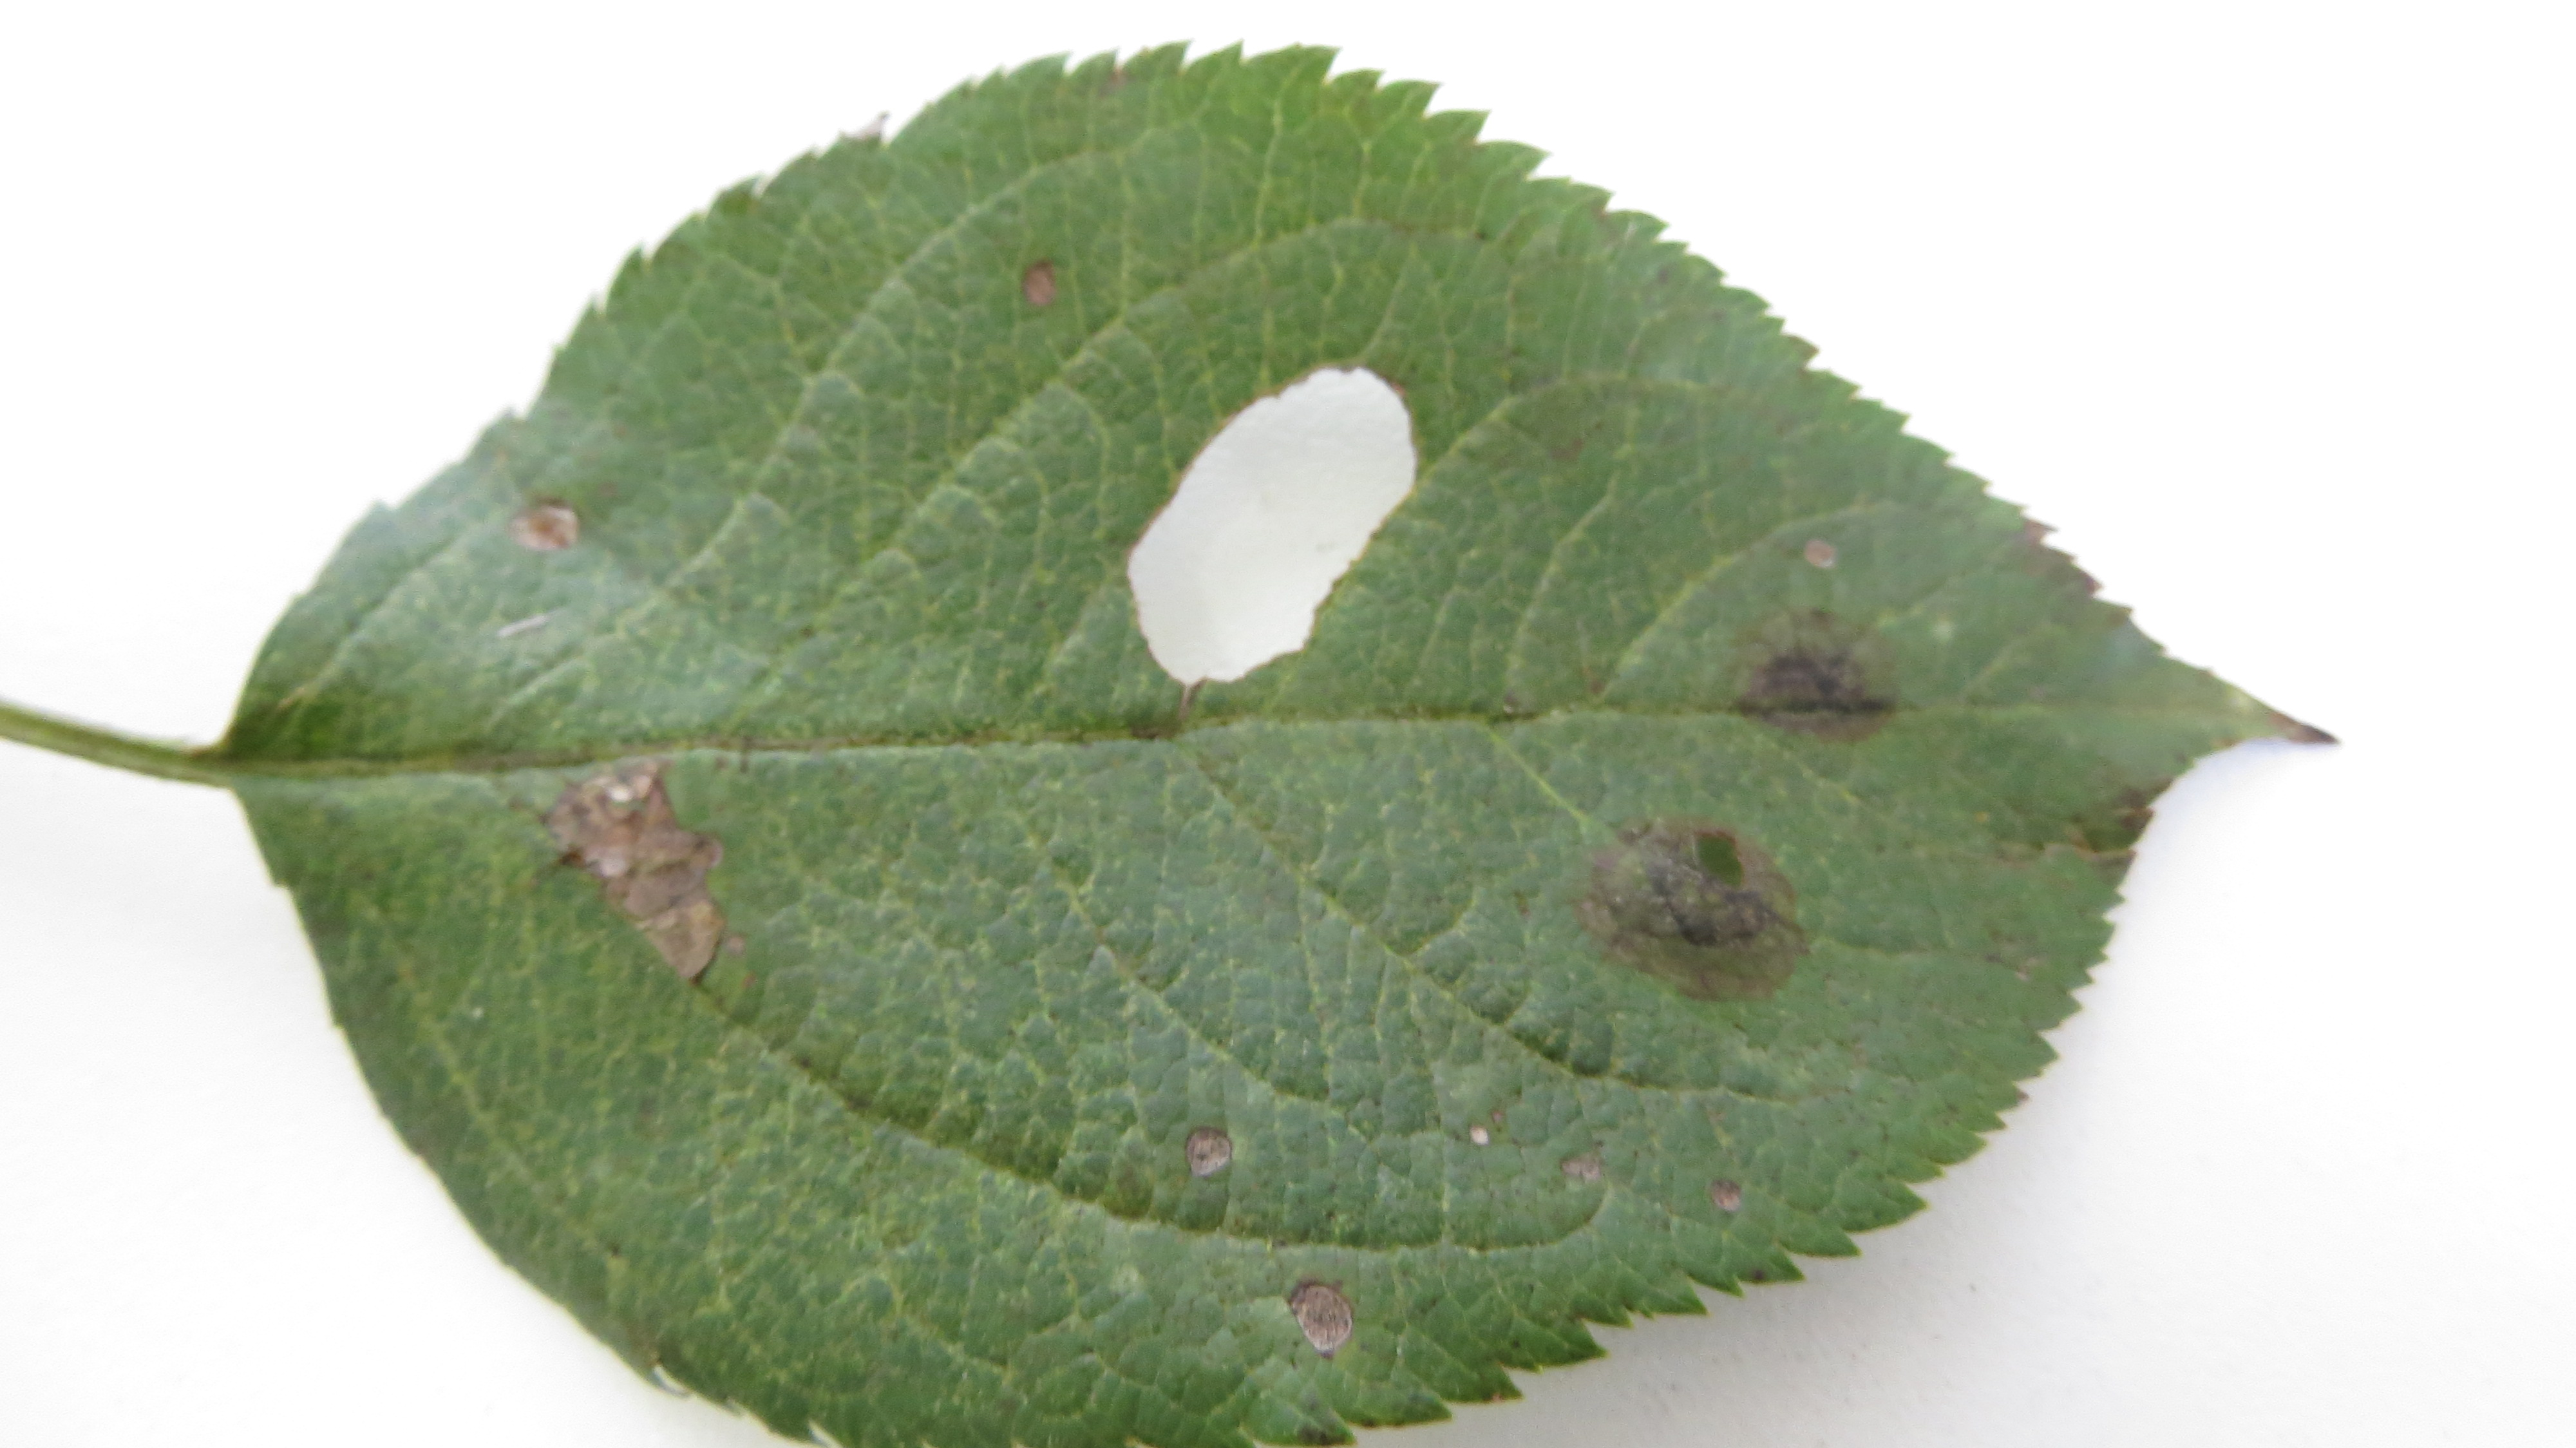sarna: (531, 747, 732, 997), (1587, 807, 1808, 1005), (1716, 597, 1905, 754), (2040, 758, 2160, 883), (1265, 1264, 1373, 1368), (502, 471, 591, 570), (1169, 1108, 1249, 1191), (1007, 232, 1063, 329), (1548, 1129, 1608, 1195), (1688, 1168, 1750, 1227)
